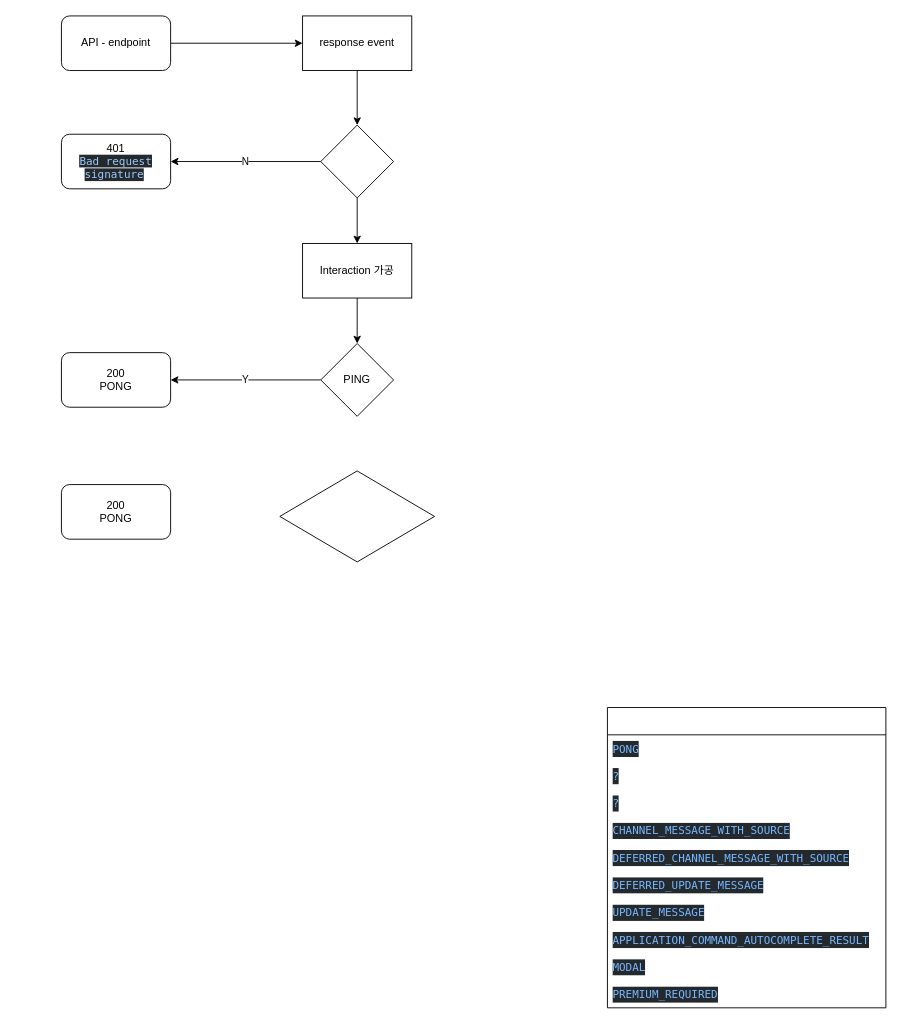
The diagram is 902 pixels wide and 1024 high, and some of its shapes have lost their labels. Here are the shapes that lost their labels. From the top down, the box of each, then its label:
(320, 124, 394, 198): Client Auth
(279, 470, 435, 562): Create Interaction Response
(607, 707, 886, 1008): 처리
